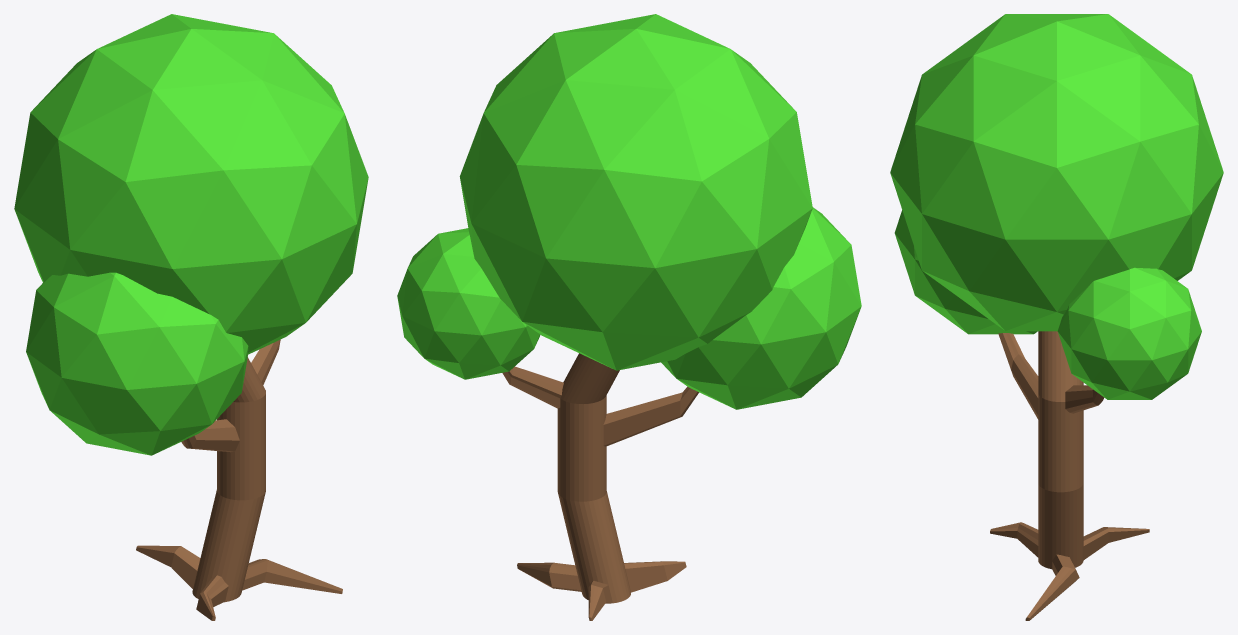
The model's file is circular-tree-1.fbx.
3 views of the same model, side by side, from view 1: azimuth 30°, elevation 25°; view 2: azimuth 150°, elevation 25°; view 3: azimuth 270°, elevation 25° (orthographic). The views are drawn at different scales.
Parts seen in each view (by area): view 1: Icosphere.000; view 2: Icosphere.000; view 3: Icosphere.000.
Boxes of the visible parts, x1=… form: Icosphere.000: x1=14, y1=14, x2=368, y2=620; Icosphere.000: x1=397, y1=14, x2=861, y2=620; Icosphere.000: x1=890, y1=14, x2=1223, y2=620.
Bounding box in the file's own units: 540 × 824 × 462.
